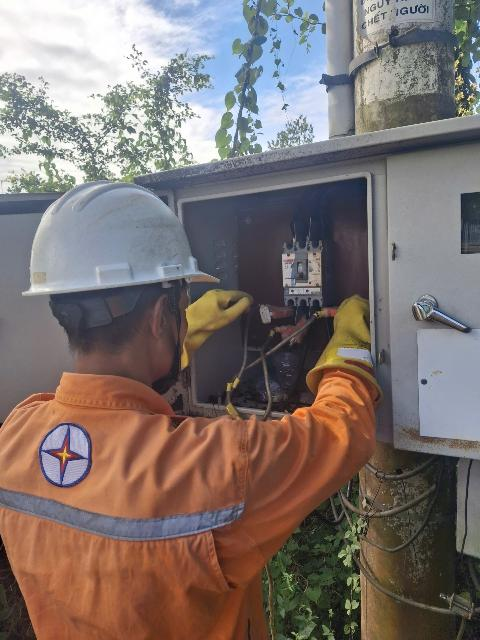gloves: (308, 285, 403, 407), (162, 268, 262, 354)
helmet: (0, 149, 242, 316)
